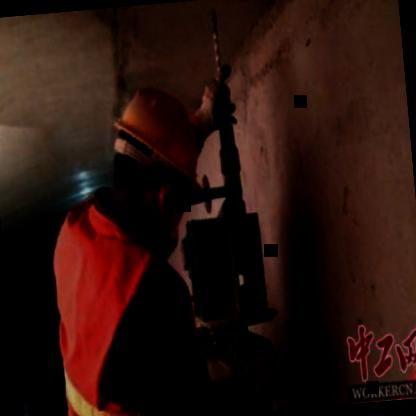helmet: (96, 69, 214, 248)
